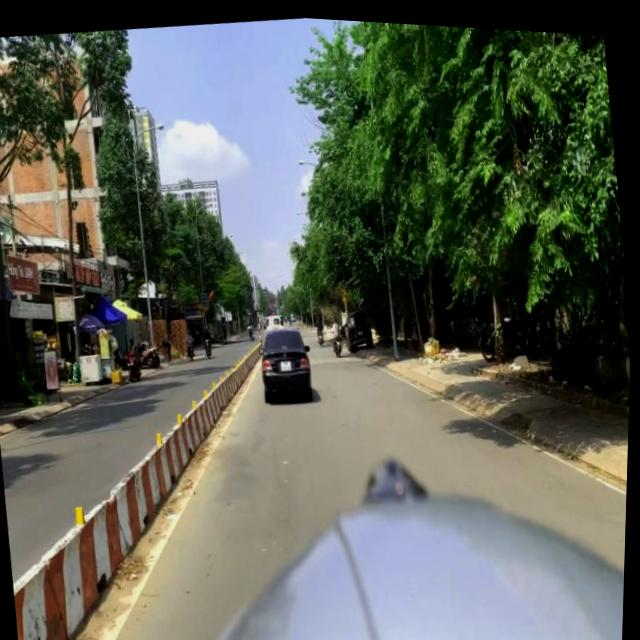Cam di nguoc chieu: (271, 297, 275, 303)
Vong chuong ngai vat sang phai: (272, 303, 277, 308)
